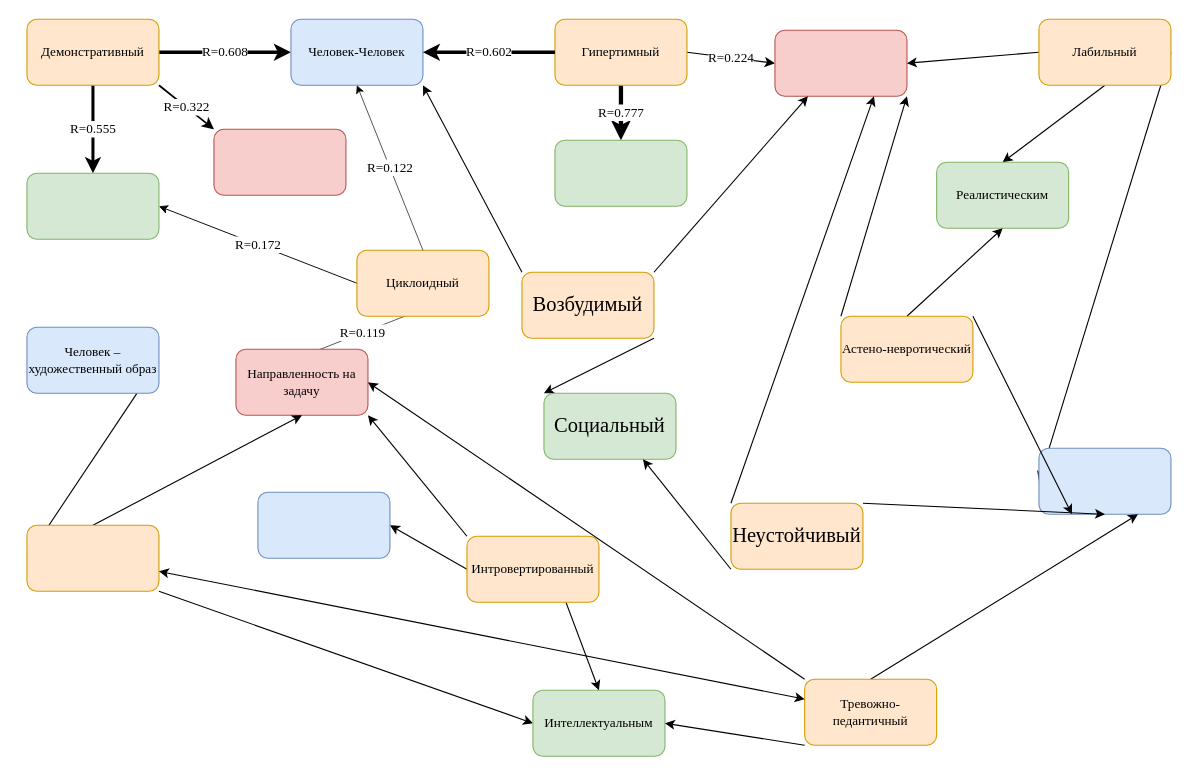
Some shapes in this 1199 by 776 pixel diagram are drawn without their labels. Each missing label, with the box of its shape:
Артистический: (26, 172, 159, 239)
Н аправленность на взаимные действия: (774, 29, 907, 96)
Направленность на себя: (213, 128, 346, 195)
Предпринимательский: (554, 139, 687, 206)
Сенситивный: (26, 524, 159, 591)
Человек – природа: (257, 491, 390, 558)
Человек-техника: (1038, 447, 1171, 514)
